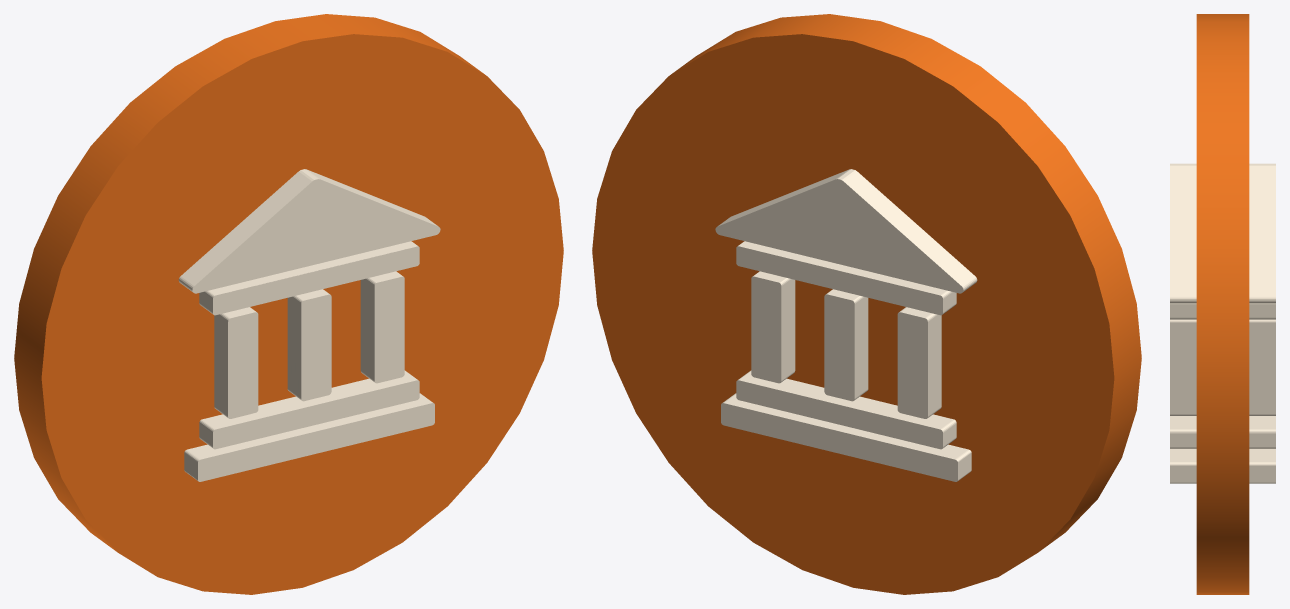
File: icon_building.gltf
The picture shows the model from 3 angles, left to right: view 1: azimuth 30°, elevation 25°; view 2: azimuth 150°, elevation 25°; view 3: azimuth 270°, elevation 25°; orthographic projection. The views are drawn at different scales.
Parts seen in each view (by area): view 1: Cylinder, buiding; view 2: Cylinder, buiding; view 3: Cylinder, buiding.
Part boxes in pixels (x1,y1,x2,y2): Cylinder: (14, 14, 563, 594); buiding: (178, 169, 440, 481); Cylinder: (592, 14, 1141, 594); buiding: (715, 169, 977, 481); Cylinder: (1196, 14, 1249, 594); buiding: (1170, 163, 1275, 483).
Size of the model in its own units: 0.11 by 0.11 by 0.02.
